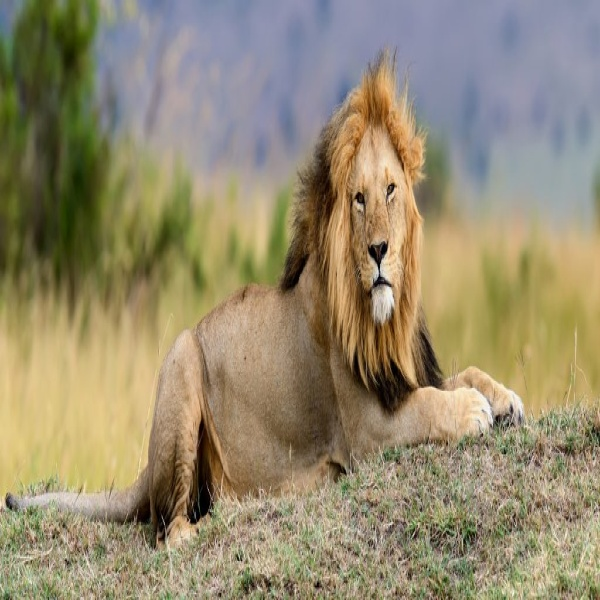Lion: (8, 45, 530, 554)
